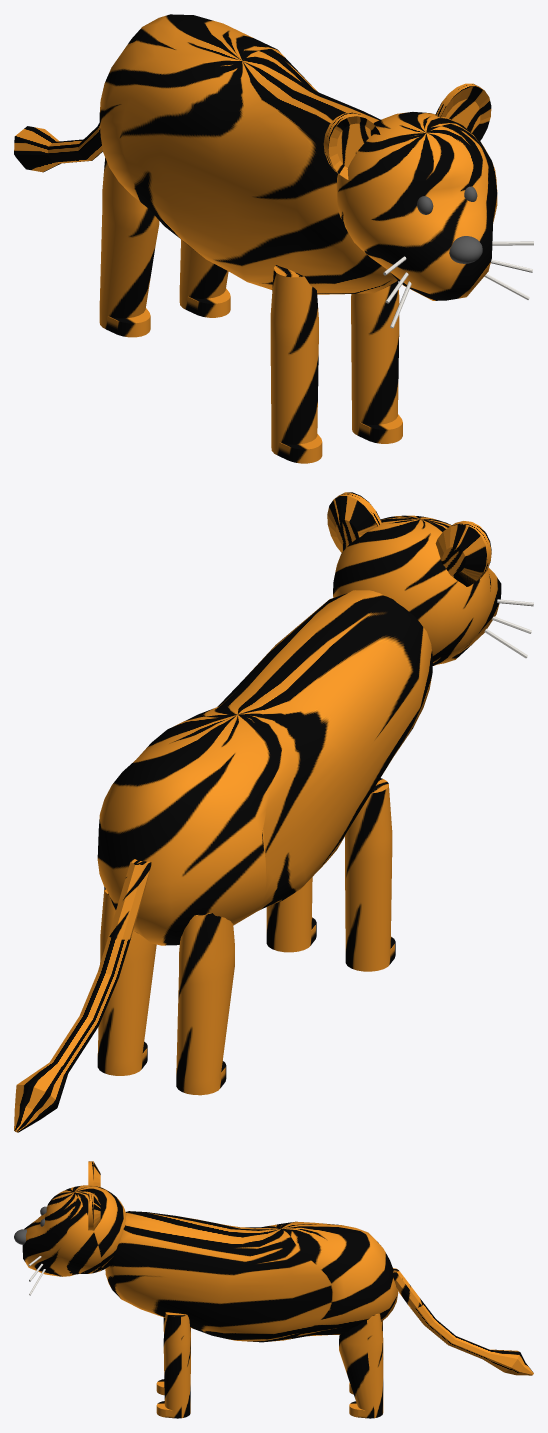
File: Tiger 1.fbx
3 renders of one model, top to bottom at view 1: azimuth 30°, elevation 25°; view 2: azimuth 150°, elevation 25°; view 3: azimuth 270°, elevation 25°, orthographic. The views are drawn at different scales.
Parts seen in each view (by area): view 1: pSphere36, pSphere37, pCylinder51, pCylinder53, pCylinder50, pCylinder52, pCylinder63, pCylinder54, pCylinder55, pSphere40; view 2: pSphere36, pSphere37, pCylinder53, pCylinder51, pCylinder63, pCylinder52, pCylinder50, pCylinder54, pCylinder55; view 3: pSphere36, pSphere37, pCylinder52, pCylinder50, pCylinder63, pCylinder55.
Boxes of the visible parts, x1,y1,x2,y2 form: pSphere36: [99, 14, 398, 294]; pSphere37: [336, 112, 497, 300]; pCylinder51: [270, 265, 322, 463]; pCylinder53: [99, 158, 159, 337]; pCylinder50: [351, 281, 402, 443]; pCylinder52: [179, 239, 230, 317]; pCylinder63: [14, 122, 102, 172]; pCylinder54: [323, 112, 380, 179]; pCylinder55: [435, 83, 491, 140]; pSphere40: [449, 236, 482, 263]; pSphere36: [97, 590, 432, 945]; pSphere37: [333, 515, 501, 665]; pCylinder53: [176, 913, 234, 1095]; pCylinder51: [345, 778, 395, 971]; pCylinder63: [14, 858, 151, 1132]; pCylinder52: [97, 887, 156, 1075]; pCylinder50: [266, 877, 316, 952]; pCylinder54: [435, 521, 491, 586]; pCylinder55: [327, 492, 381, 552]; pSphere36: [105, 1211, 398, 1342]; pSphere37: [22, 1185, 126, 1276]; pCylinder52: [339, 1313, 383, 1418]; pCylinder50: [156, 1312, 190, 1418]; pCylinder63: [392, 1268, 533, 1375]; pCylinder55: [88, 1193, 100, 1230].
Size of the model in its own units: 2.02 by 4.47 by 9.49.
